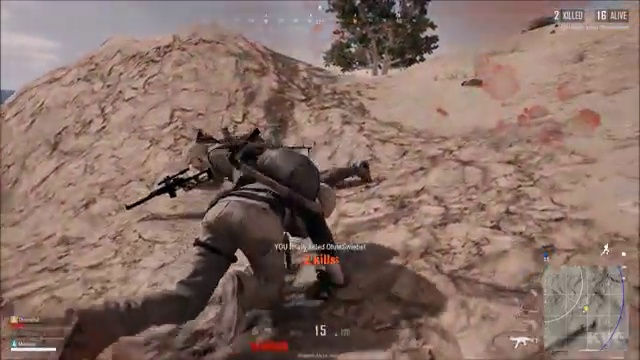Player: (158, 122, 357, 235)
